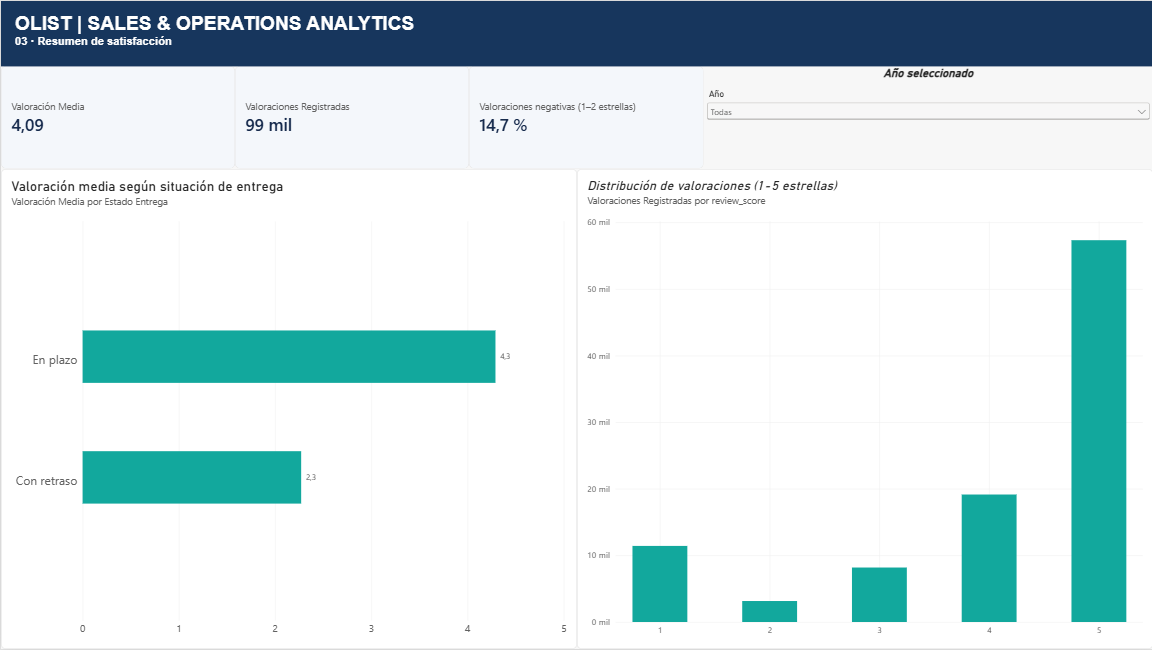

The page's visual inventory and layout, read from the dashboard file:
{"tool":"powerbi","page":{"name":"Satisfacción","canvas":[1920,1080],"ordinal":2},"visuals":[{"type":"cardVisual","fields":{"Data":["stgValoraciones.Valoración Media"]},"box":[0,108.3,390,171.7],"z":0},{"type":"cardVisual","fields":{"Data":["stgValoraciones.Porcentaje Valoraciones Negativas"]},"box":[780,108.9,391.7,171.7],"z":1000},{"type":"cardVisual","fields":{"Data":["stgValoraciones.Valoraciones Registradas"]},"box":[390,108.3,390,171.7],"z":2000},{"type":"clusteredColumnChart","title":"Distribución de valoraciones (1-5 estrellas)","fields":{"Category":["stgValoraciones.review_score"],"Y":["stgValoraciones.Valoraciones Registradas"]},"box":[960,280,960,800],"z":3000},{"type":"clusteredBarChart","title":"Valoración media según situación de entrega","fields":{"Category":["stgPedidos.Estado Entrega"],"Y":["stgValoraciones.Valoración Media"]},"box":[0,280,960,800],"z":4000},{"type":"slicer","title":"Año seleccionado","fields":{"Values":["Calendario.Año"]},"box":[1172.2,108.9,747.8,171.1],"z":5000},{"type":"shape","box":[0,0,1920.3,109.1],"z":6000},{"type":"textbox","box":[0,803,675,277],"z":7000},{"type":"textbox","box":[23.3,20,696.7,131.7],"z":8000}]}

Visuals, with their boxes in screenshot pixels (x1, y1, x2, y2), scaled from the page's 1920x1080 canvas onto the 1152x650 screenshot:
cardVisual - stgValoraciones.Valoración Media: pyautogui.locateOnScreen(0, 65, 234, 169)
cardVisual - stgValoraciones.Porcentaje Valoraciones Negativas: pyautogui.locateOnScreen(468, 66, 703, 169)
cardVisual - stgValoraciones.Valoraciones Registradas: pyautogui.locateOnScreen(234, 65, 468, 169)
"Distribución de valoraciones (1-5 estrellas)" clusteredColumnChart: pyautogui.locateOnScreen(576, 169, 1151, 649)
"Valoración media según situación de entrega" clusteredBarChart: pyautogui.locateOnScreen(0, 169, 576, 649)
"Año seleccionado" slicer: pyautogui.locateOnScreen(703, 66, 1151, 169)
shape: pyautogui.locateOnScreen(0, 0, 1151, 66)
textbox: pyautogui.locateOnScreen(0, 483, 405, 649)
textbox: pyautogui.locateOnScreen(14, 12, 432, 91)
